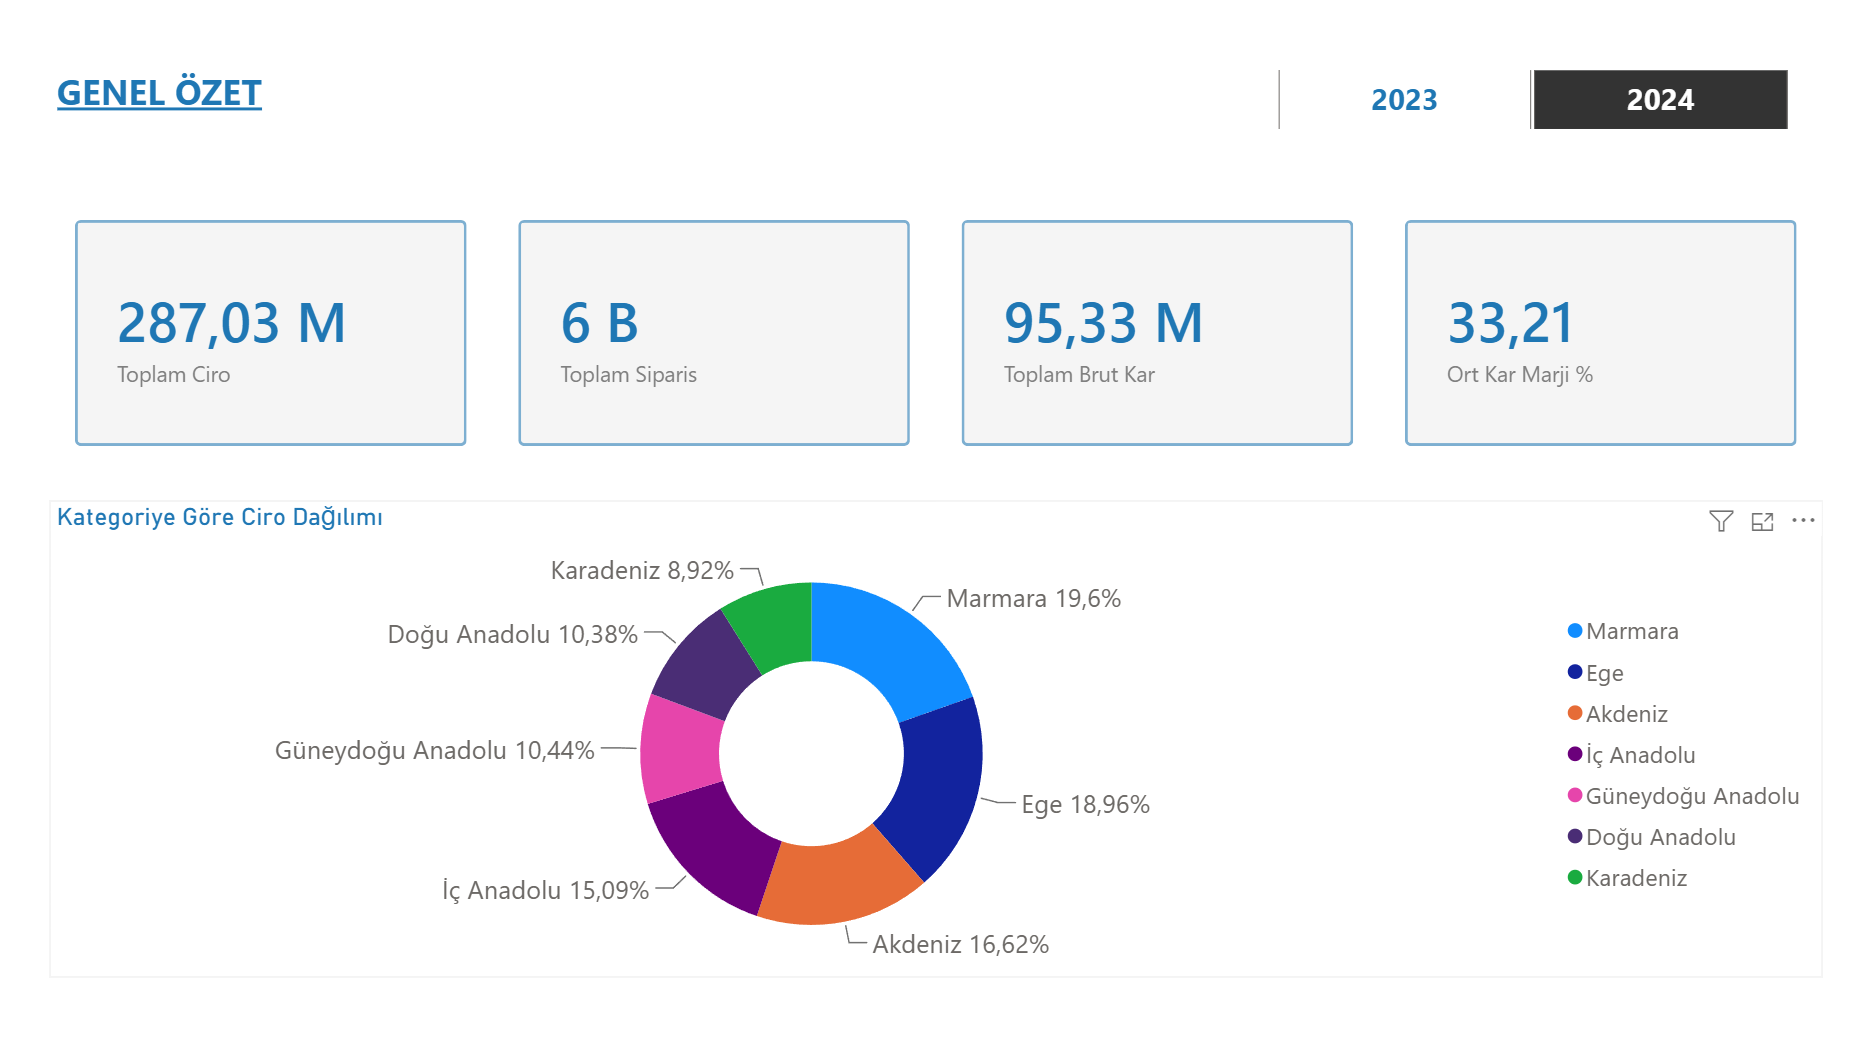

What the dashboard file says about the page in this screenshot:
{"tool":"powerbi","page":{"name":"Genel Özet","canvas":[1280,720],"ordinal":0},"visuals":[{"type":"cardVisual","fields":{"Data":["VW_AylikSatisOzeti.Toplam Ciro","VW_AylikSatisOzeti.Toplam Siparis","VW_AylikSatisOzeti.Toplam Brut Kar","VW_AylikSatisOzeti.Ort Kar Marji %"]},"box":[35.8,133.9,1207.8,188],"z":0},{"type":"textbox","box":[35.8,41.9,337.2,80.7],"z":1000},{"type":"slicer","fields":{"Values":["VW_AylikSatisOzeti.AyTarihi.Varyasyon.Tarih Hiyerarşisi.Yıl"]},"box":[847.1,41.9,396.5,54.2],"z":2000},{"type":"donutChart","title":"Kategoriye Göre Ciro Dağılımı","fields":{"Category":["VW_BolgeselSatis.BolgeAdi"],"Y":["Sum(VW_BolgeselSatis.ToplamCiro)"]},"box":[35.8,341.8,1207.4,325],"z":3000}]}

Visuals, with their boxes in screenshot pixels (x1, y1, x2, y2), scaled from the page's 1280x720 canvas onto the 1873x1051 screenshot:
cardVisual - VW_AylikSatisOzeti.Toplam Ciro x VW_AylikSatisOzeti.Toplam Siparis: [left=52, top=195, right=1820, bottom=470]
textbox: [left=52, top=61, right=546, bottom=179]
slicer - VW_AylikSatisOzeti.AyTarihi.Varyasyon.Tarih Hiyerarşisi.Yıl: [left=1240, top=61, right=1820, bottom=140]
"Kategoriye Göre Ciro Dağılımı" donutChart: [left=52, top=499, right=1819, bottom=973]
